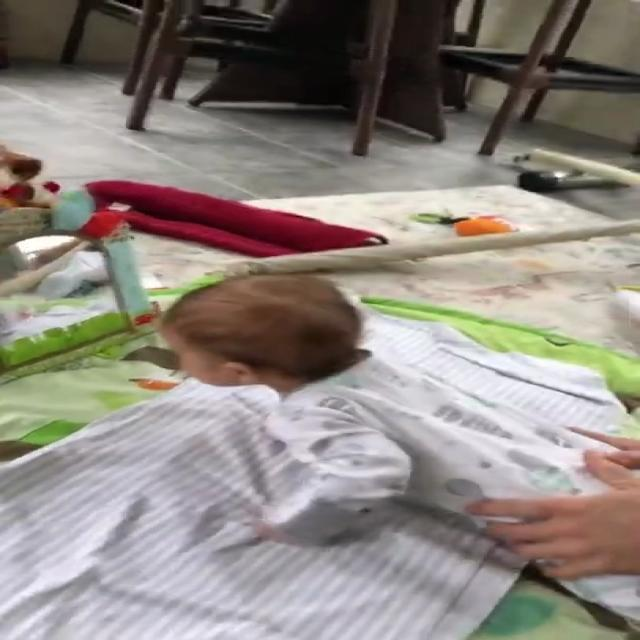baby: (157, 277, 640, 626)
